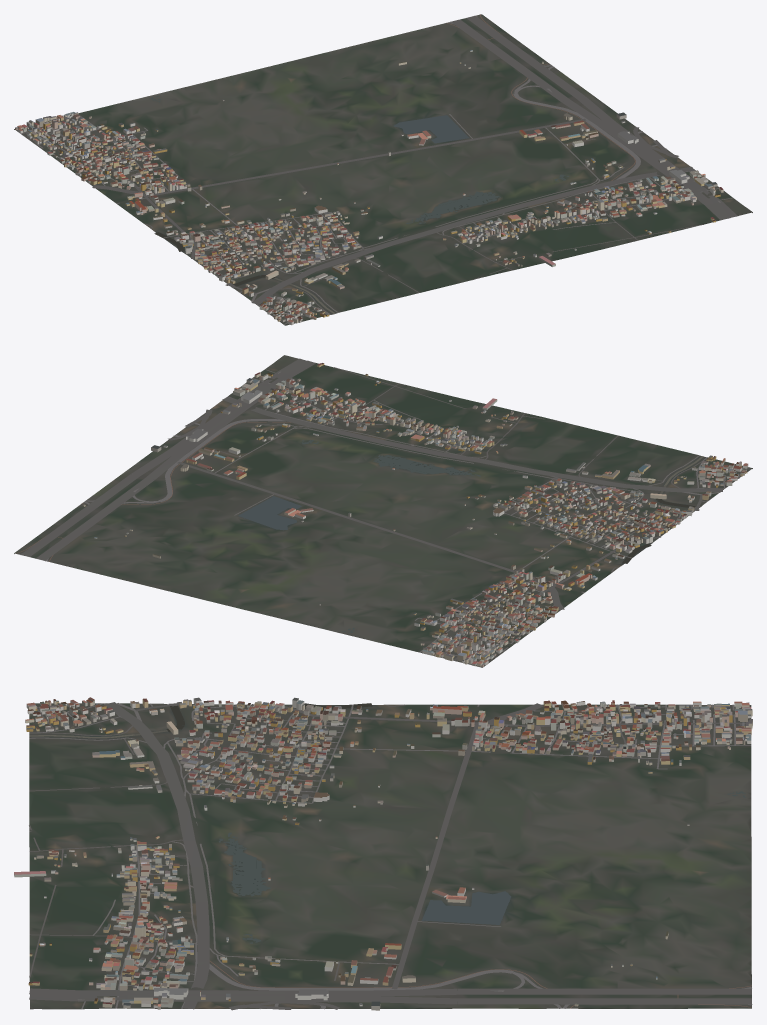
The picture shows the model from 3 angles, top to bottom: view 1: azimuth 30°, elevation 25°; view 2: azimuth 150°, elevation 25°; view 3: azimuth 270°, elevation 25°; orthographic projection. The views are drawn at different scales.
Parts seen in each view (by area): view 1: ground, buildings, roads, water; view 2: ground, buildings, roads, water; view 3: ground, buildings, roads, water.
Part boxes in pixels (x1=…): ground: x1=14, y1=14, x2=752, y2=325; buildings: x1=15, y1=50, x2=723, y2=325; roads: x1=21, y1=14, x2=737, y2=324; water: x1=150, y1=95, x2=568, y2=313; ground: x1=14, y1=355, x2=752, y2=667; buildings: x1=82, y1=363, x2=748, y2=667; roads: x1=16, y1=358, x2=751, y2=660; water: x1=238, y1=440, x2=703, y2=633; ground: x1=29, y1=703, x2=751, y2=1009; buildings: x1=14, y1=697, x2=752, y2=1010; roads: x1=29, y1=702, x2=752, y2=1010; water: x1=29, y1=703, x2=746, y2=943.
Bounding box in the file's own units: 1415 × 27.23 × 1435.
